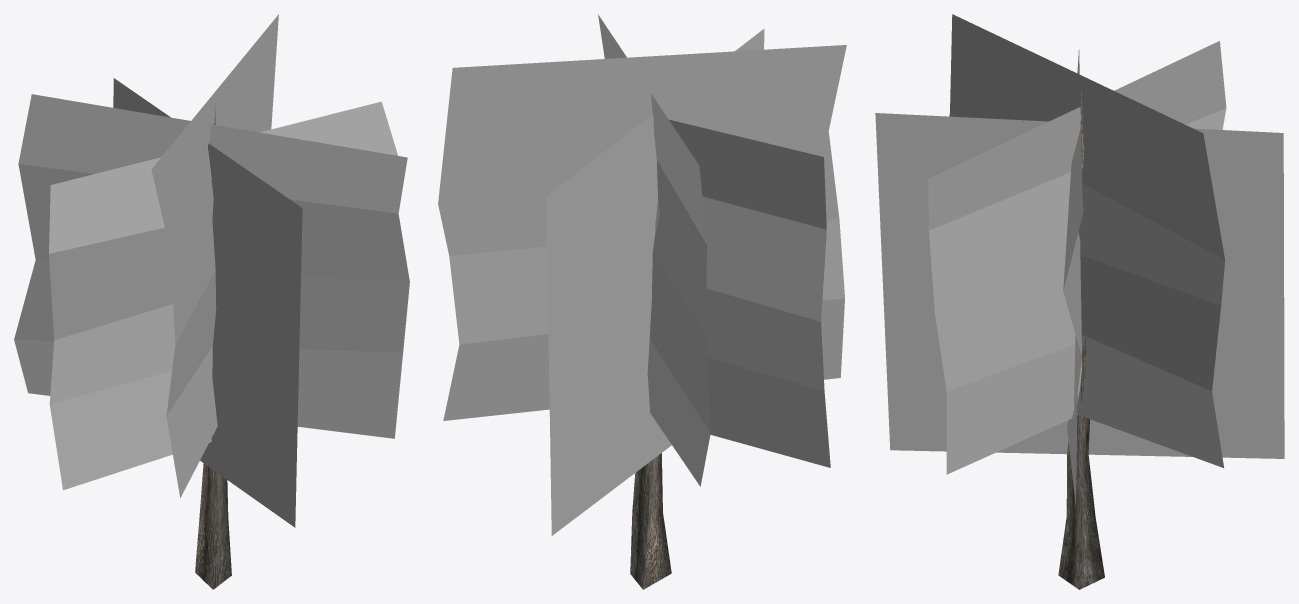
File: tree_2.fbx
The picture shows the model from 3 angles, left to right: view 1: azimuth 30°, elevation 25°; view 2: azimuth 150°, elevation 25°; view 3: azimuth 270°, elevation 25°; orthographic projection. The views are drawn at different scales.
Parts seen in each view (by area): view 1: Tree; view 2: Tree; view 3: Tree.
Part boxes in pixels (x1,y1,x2,y2): Tree: (14, 14, 409, 589); Tree: (438, 14, 846, 589); Tree: (875, 14, 1284, 589).
Bounding box in the file's own units: 489 × 661 × 480.
